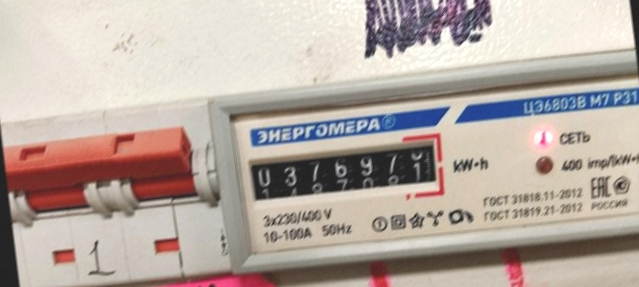0: (254, 165, 272, 187)
1: (410, 160, 424, 182)
3: (281, 163, 297, 188)
6: (332, 155, 347, 178)
7: (306, 157, 322, 183), (383, 150, 398, 175)
9: (357, 153, 373, 177)
screen: (240, 129, 450, 222)
